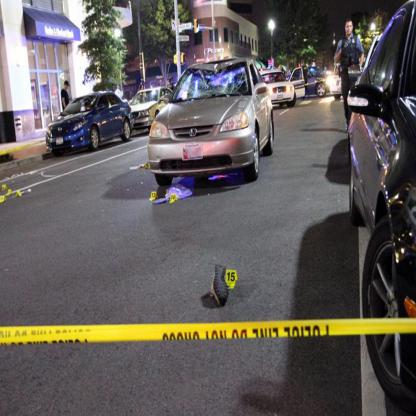face: (346, 23, 353, 36), (66, 85, 69, 91), (279, 76, 282, 81), (86, 105, 89, 110), (159, 95, 162, 100), (142, 87, 144, 92)
